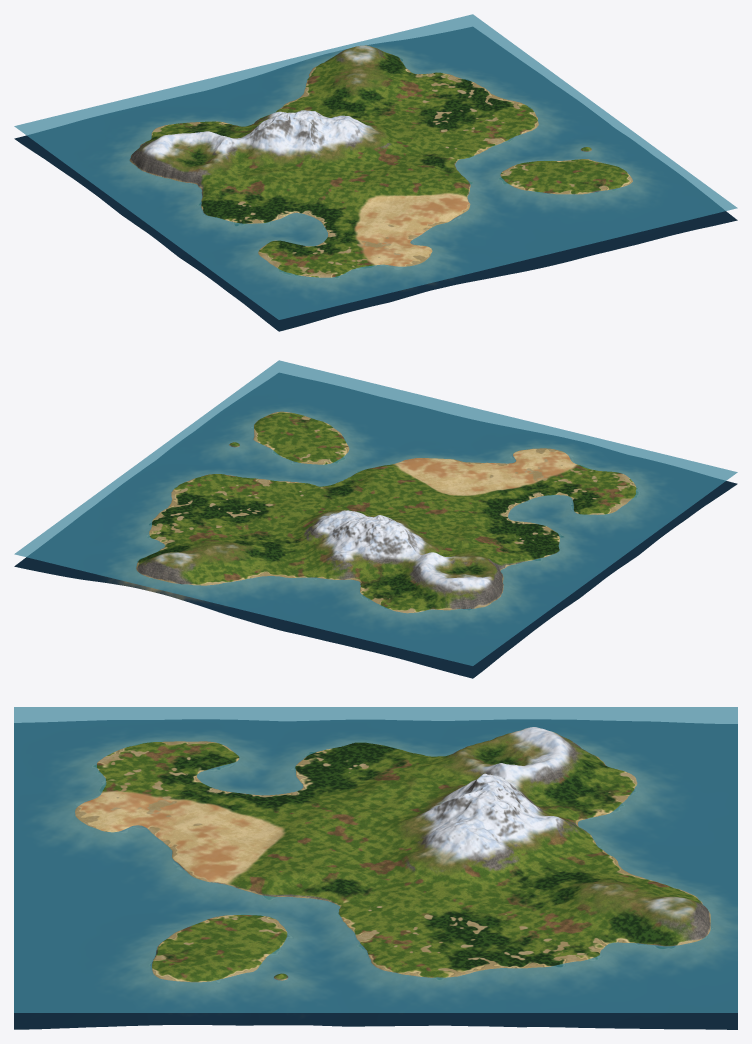
File: acik_dunya_adasi_optimize.glb
3 renders of one model, top to bottom at view 1: azimuth 30°, elevation 25°; view 2: azimuth 150°, elevation 25°; view 3: azimuth 270°, elevation 25°, orthographic. The views are drawn at different scales.
Parts seen in each view (by area): view 1: Island_Terrain, Ocean; view 2: Island_Terrain, Ocean; view 3: Island_Terrain, Ocean.
Boxes of the visible parts, bbox=[...] form: Island_Terrain: bbox=[14, 27, 737, 331]; Ocean: bbox=[14, 14, 737, 319]; Island_Terrain: bbox=[14, 373, 737, 678]; Ocean: bbox=[14, 360, 737, 665]; Island_Terrain: bbox=[14, 719, 737, 1029]; Ocean: bbox=[14, 707, 737, 1012].
Size of the model in its own units: 4000 by 391 by 4000.
2 materials, 1 textured.
